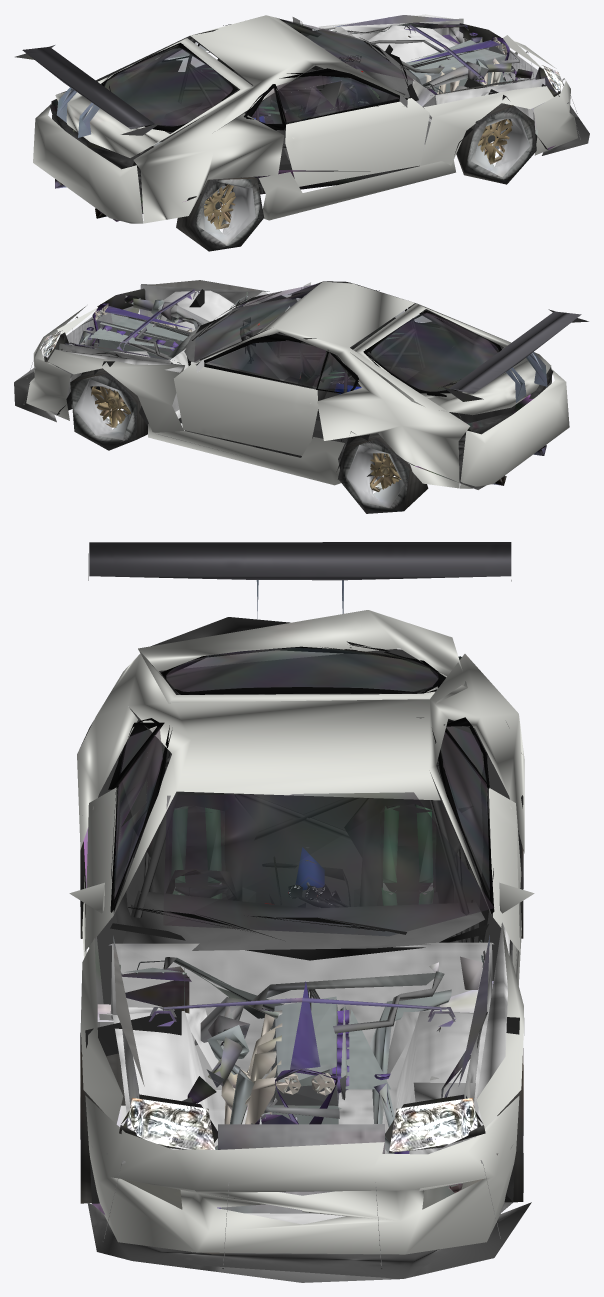
Rendered from veh-drift.glb.
The picture shows the model from 3 angles, top to bottom: view 1: azimuth 30°, elevation 25°; view 2: azimuth 150°, elevation 25°; view 3: azimuth 270°, elevation 25°; orthographic projection. The views are drawn at different scales.
Visible parts, largest first — view 1: belt_Engine1_0; view 2: belt_Engine1_0; view 3: belt_Engine1_0.
Boxes of the visible parts, box(x1,y1,x2,y2) form: belt_Engine1_0: box(15, 14, 589, 251); belt_Engine1_0: box(14, 280, 588, 513); belt_Engine1_0: box(69, 542, 534, 1282).
Bounding box in the file's own units: 596 × 168 × 241.
27 materials, 21 textured.
